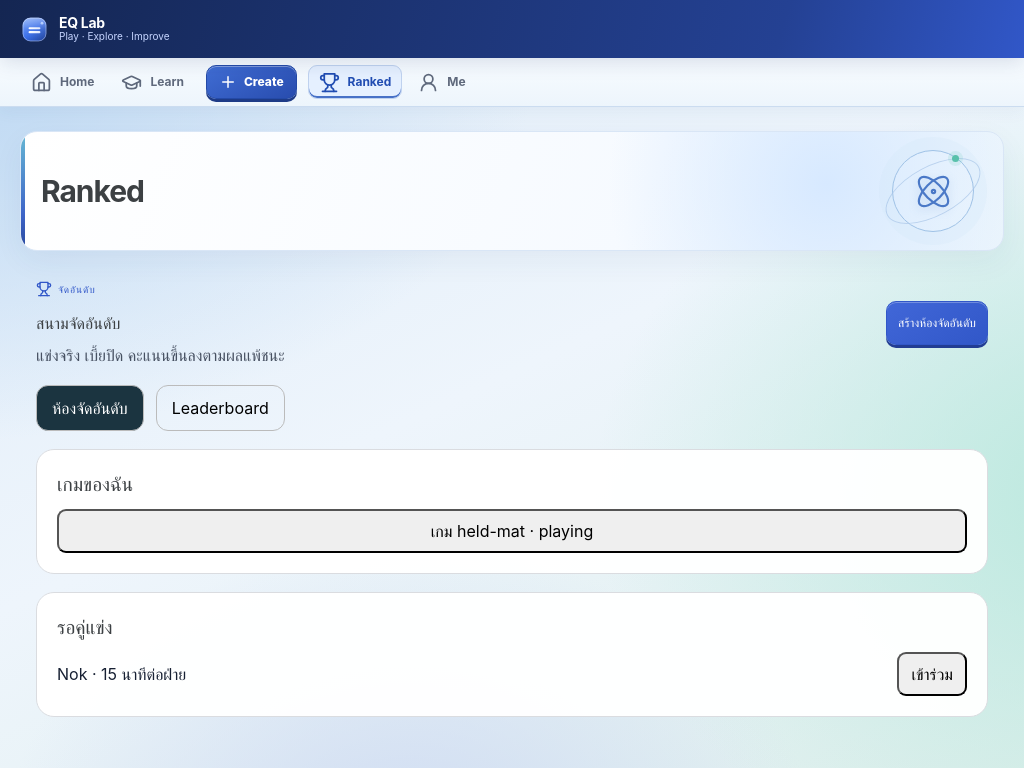
joining a waiting Ranked room › joins only on the explicit confirmation, with exactly the preview's basis, then opens the match
The image size is (1024, 768).
Click the button "เข้าร่วม": coordinates (932, 674) x1=897 y1=652 x2=967 y2=696
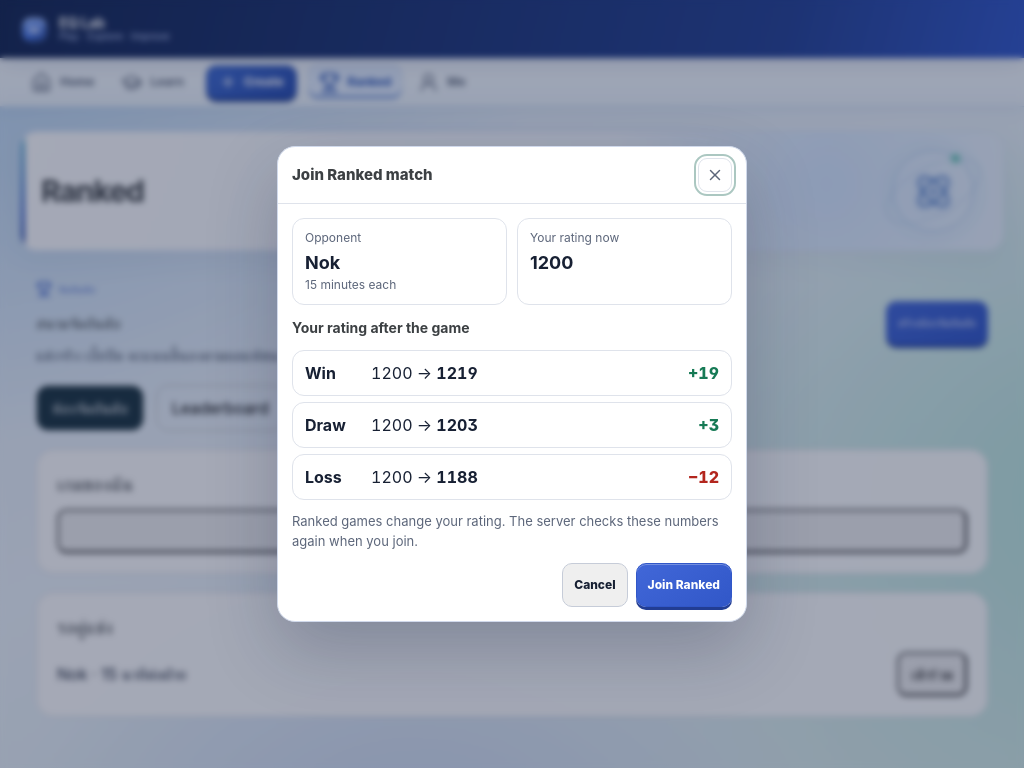
Click the button "Join Ranked": coordinates (684, 585) x1=636 y1=563 x2=732 y2=607
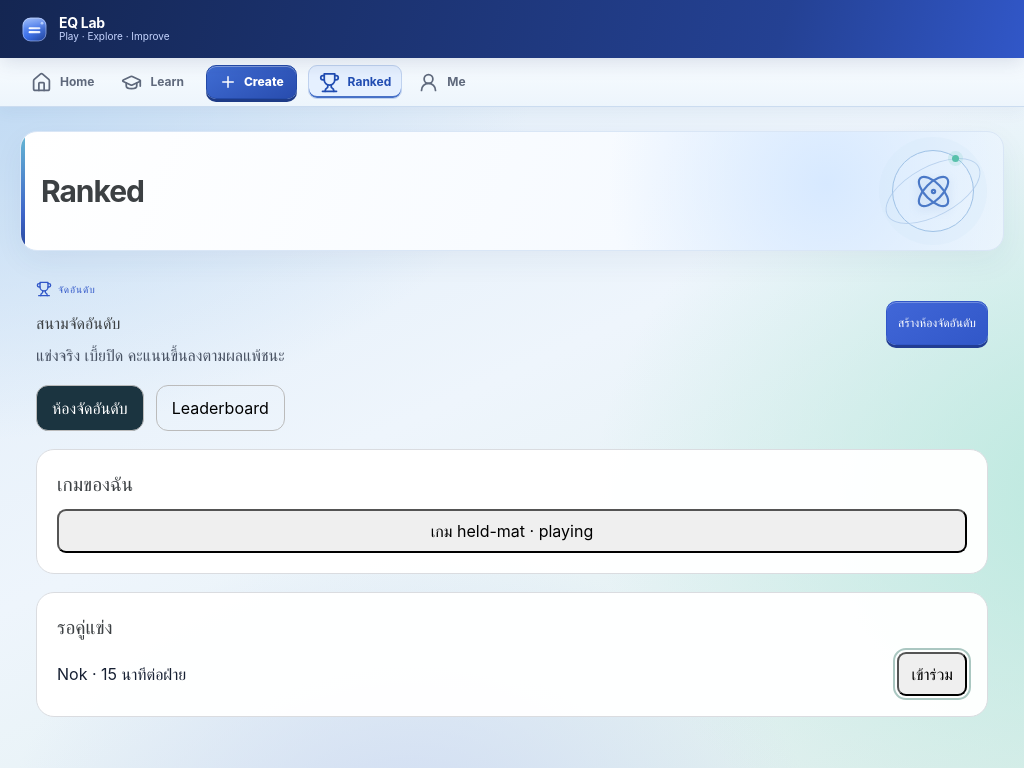
Expected: the dialog is gone
